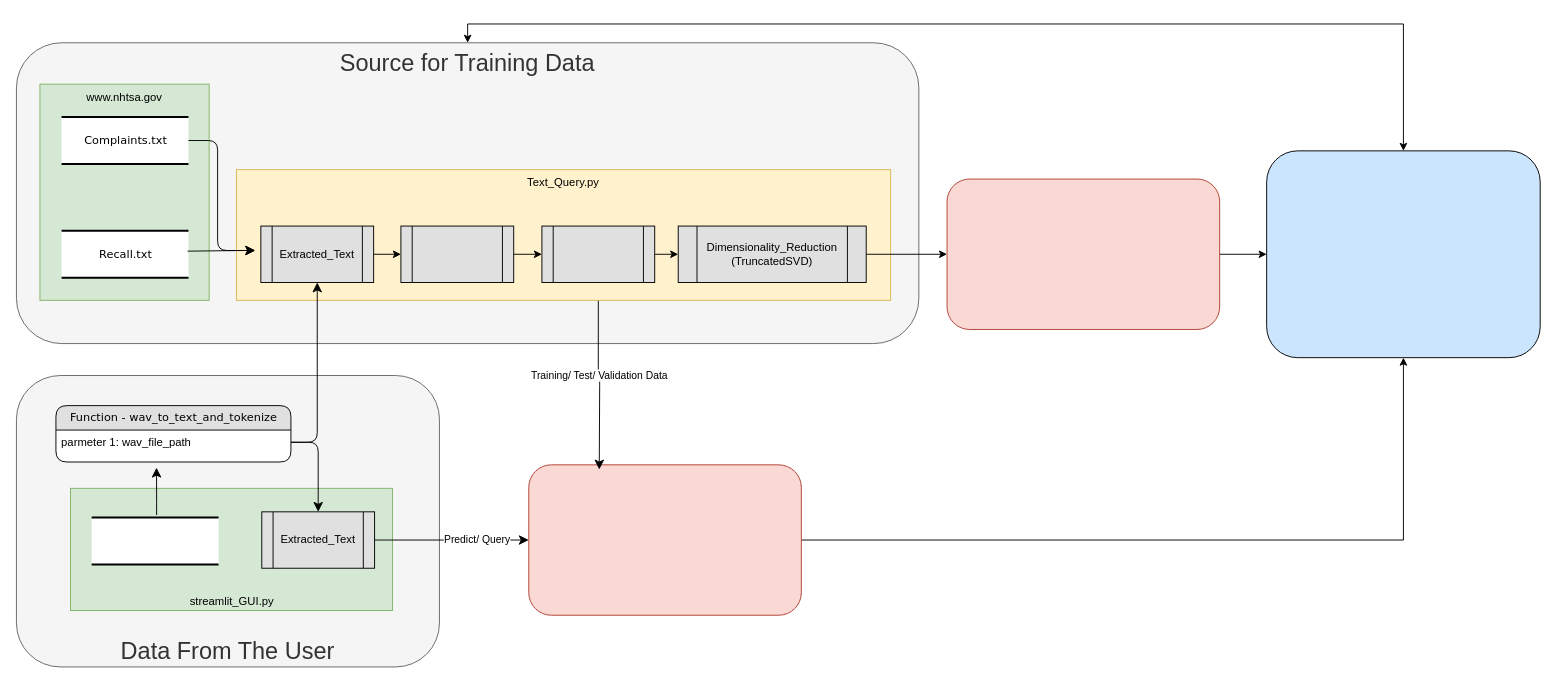
Image size: 1557x683. Some labels were removed from this diagram. Here are the shapes that lost their labels. From the top down, the centre of each, then its label:
At (457,253): "Tokenize_Text (NLTK)".
At (598,253): "Vectorize_Text (TfidfVectorizer)".
At (1083,253): "Cosine Similarity (find_similar_complaint )".
At (1403,254): "Data Presentation Scoring Stats Visualization".
At (154,540): "Recorded_Audio.wav".
At (664,539): "Clustering Model".
